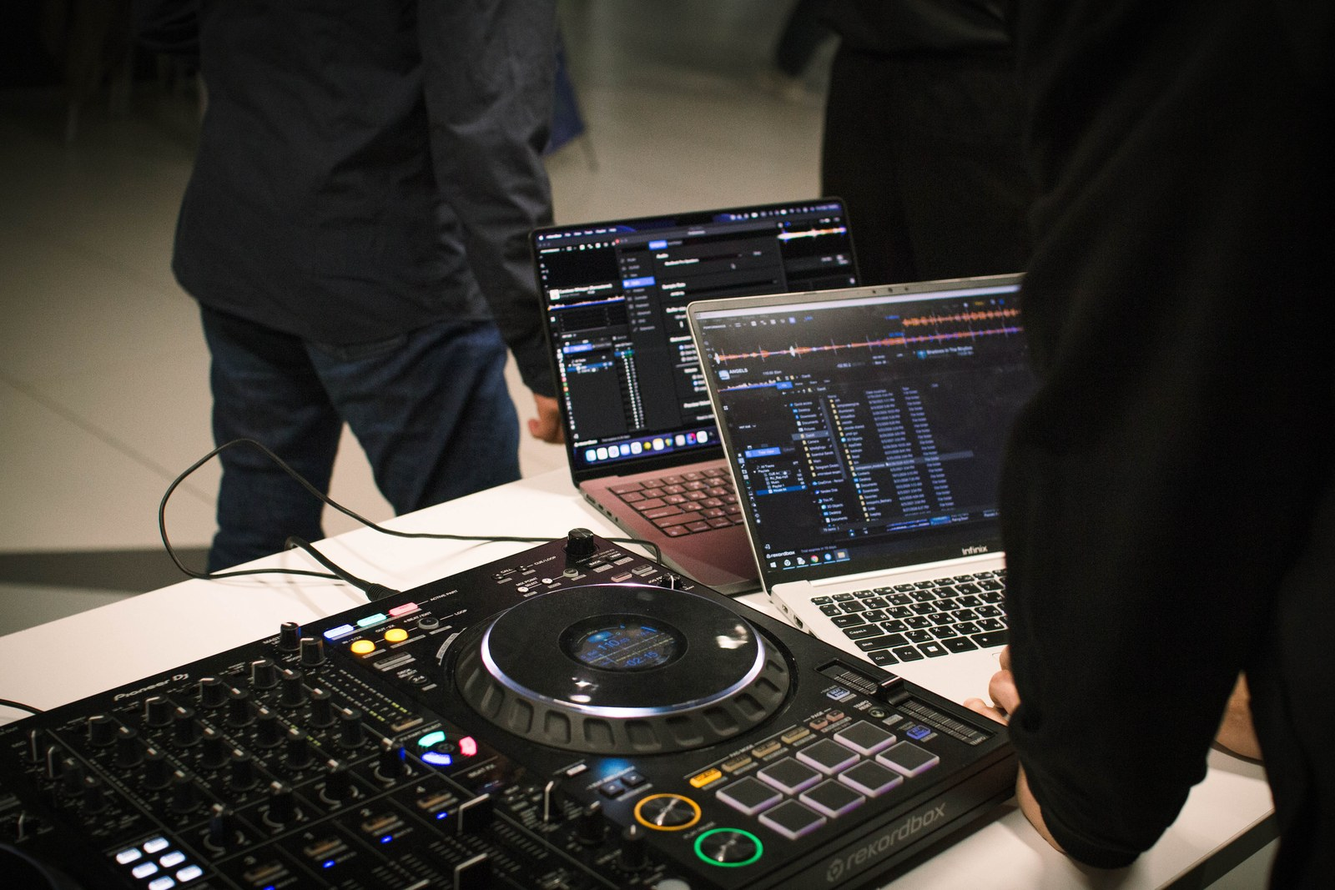laptop: (686, 270, 1039, 708), (529, 196, 863, 596)
